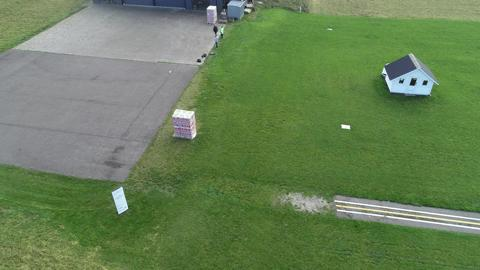RockwoolPallet: (206, 5, 218, 25)
